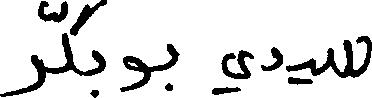X: (45, 0, 90, 97), (0, 0, 43, 97), (328, 31, 371, 82), (213, 45, 251, 97), (121, 51, 148, 96), (92, 0, 104, 97), (283, 53, 314, 89), (165, 39, 176, 95), (263, 42, 281, 75)
